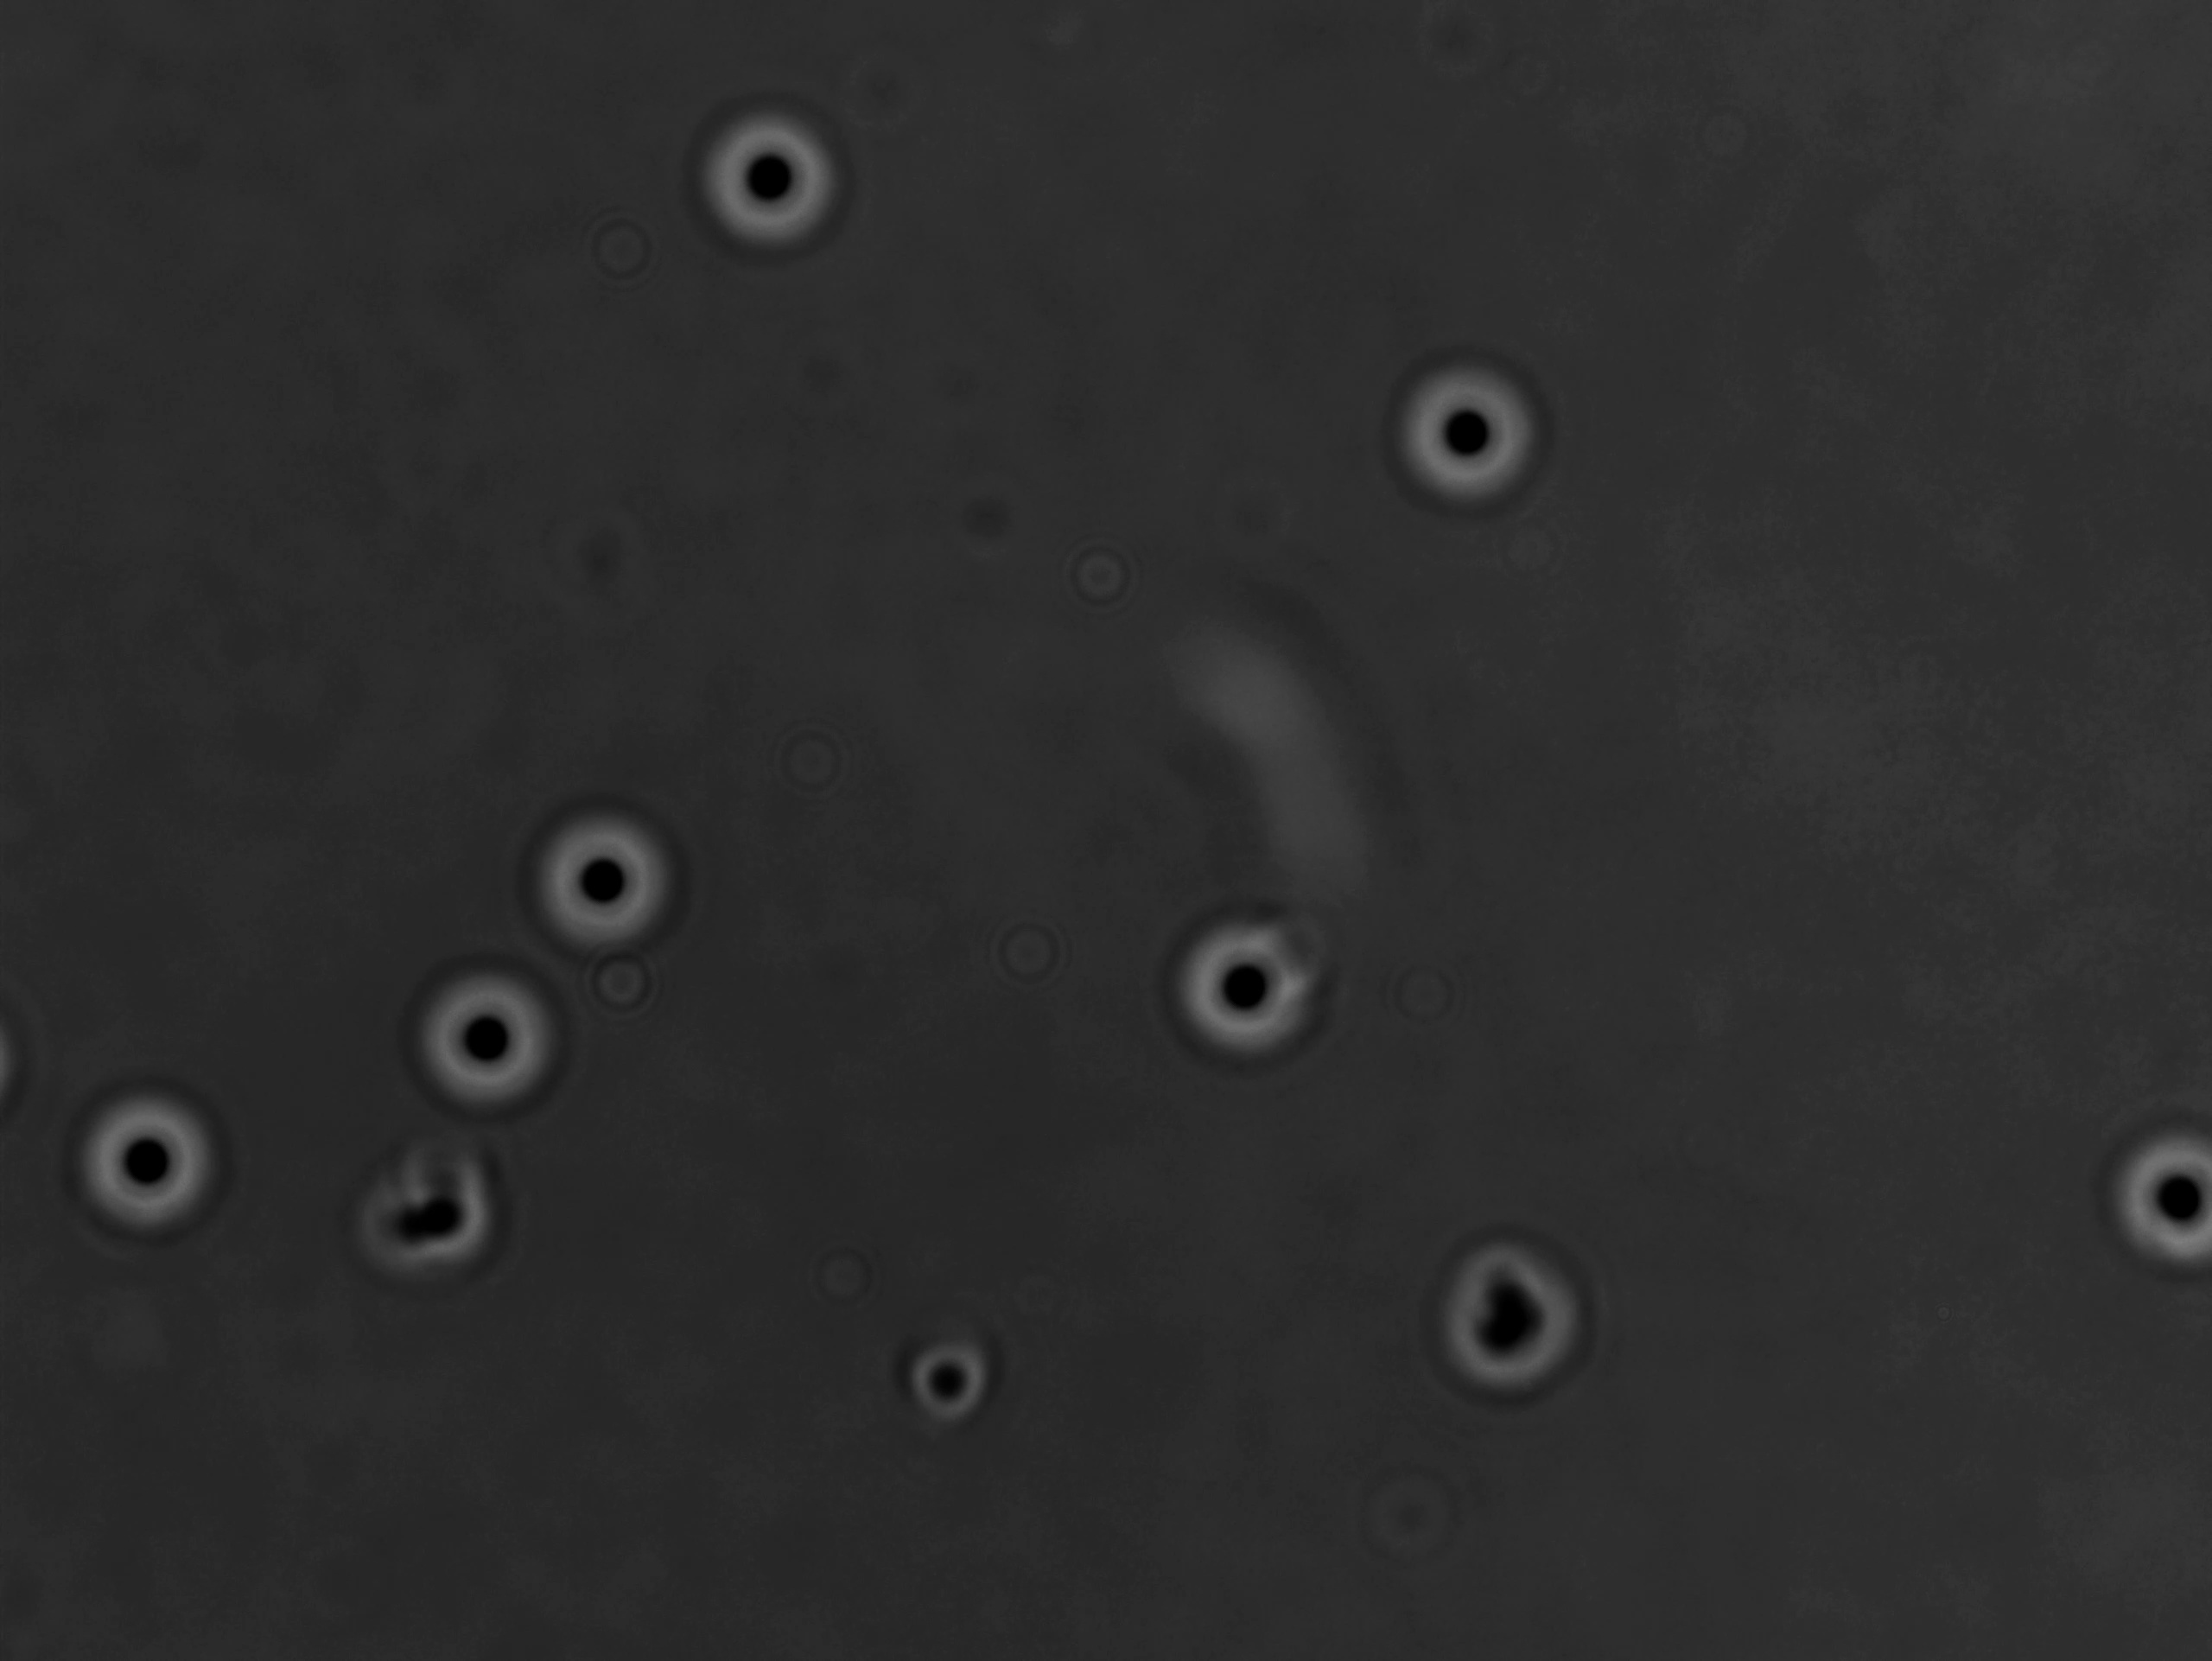depth:-40: (1158, 897, 1345, 1085), (394, 947, 584, 1127), (63, 1064, 242, 1249), (1380, 340, 1553, 523), (525, 797, 700, 961), (696, 101, 857, 270), (2095, 1101, 2212, 1272)
